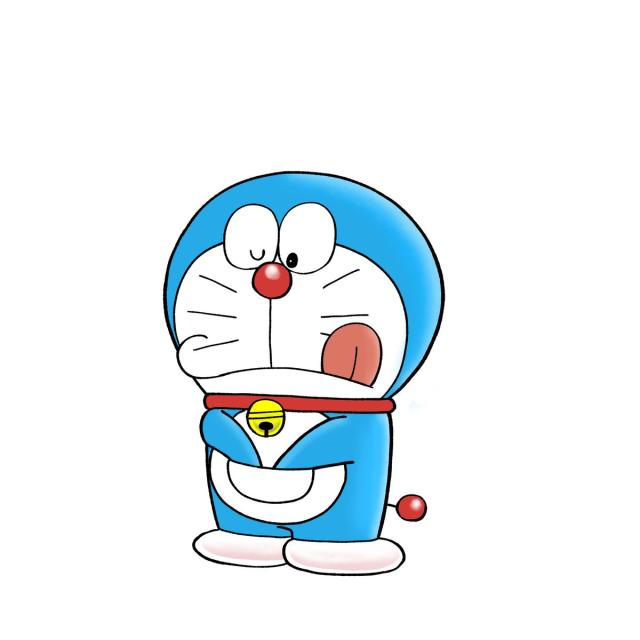doraemon: (143, 152, 493, 493)
